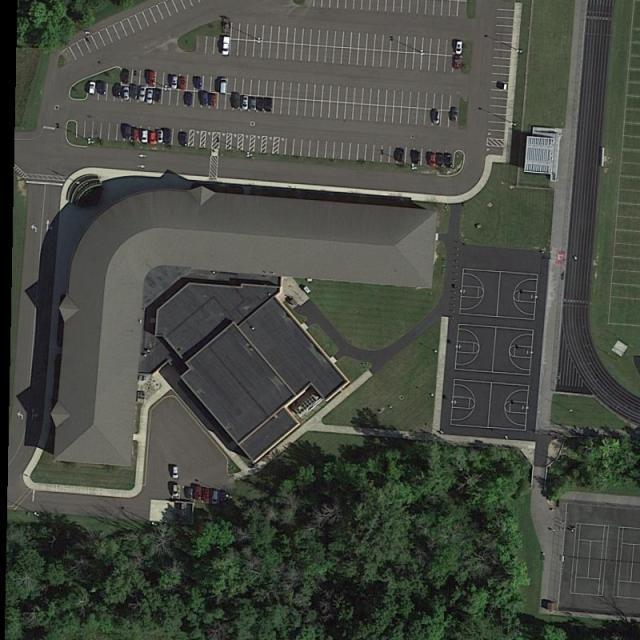vehicle: (230, 91, 242, 109), (218, 78, 229, 95), (123, 125, 133, 142), (222, 19, 232, 36), (163, 126, 172, 144), (452, 55, 462, 71), (113, 82, 123, 98), (222, 36, 230, 56), (454, 39, 463, 56), (432, 109, 441, 126), (412, 150, 422, 165), (147, 69, 156, 85), (133, 127, 142, 143), (450, 106, 459, 122), (428, 151, 437, 167), (179, 130, 188, 146), (87, 82, 97, 96), (201, 91, 210, 106), (121, 69, 130, 84), (146, 88, 154, 104), (130, 83, 138, 99), (170, 74, 178, 90), (138, 86, 146, 102), (257, 96, 265, 112), (241, 94, 249, 110), (185, 92, 194, 106), (396, 148, 405, 162), (122, 87, 130, 102), (202, 489, 210, 504), (249, 96, 257, 111), (195, 75, 203, 89), (149, 131, 157, 145), (210, 94, 218, 108), (211, 490, 219, 504), (194, 486, 202, 500), (154, 88, 162, 102), (157, 129, 164, 144), (266, 97, 273, 112), (445, 154, 453, 167), (179, 76, 186, 90), (172, 483, 179, 497), (437, 153, 444, 167), (98, 82, 106, 94), (142, 129, 148, 144), (186, 488, 194, 499), (173, 466, 179, 479)
